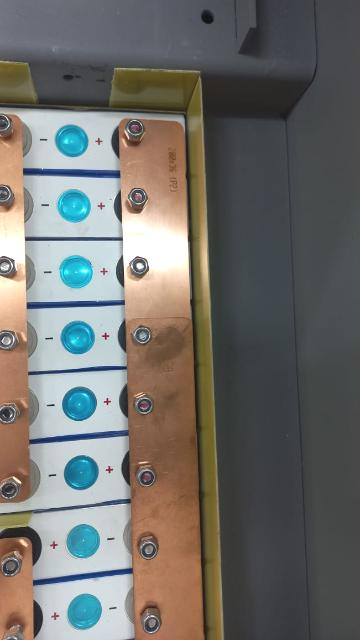busbar: (110, 111, 213, 640), (117, 116, 191, 319), (1, 111, 32, 490)
